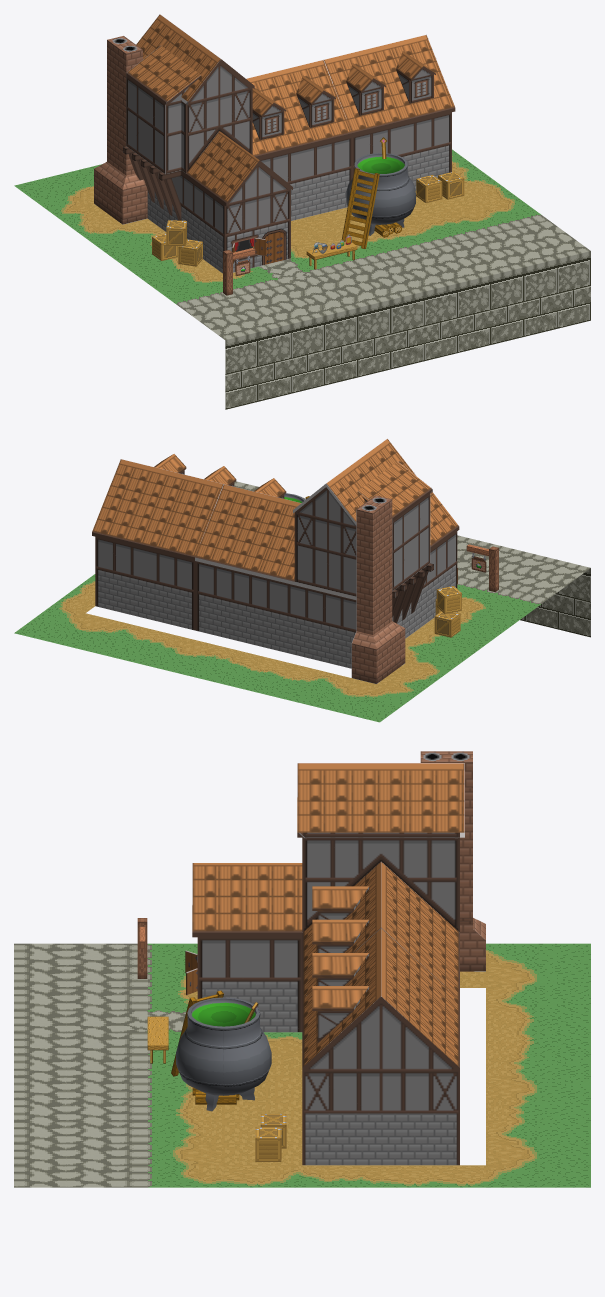
File: Alchemy_Shop_1.fbx
3 renders of one model, top to bottom at view 1: azimuth 30°, elevation 25°; view 2: azimuth 150°, elevation 25°; view 3: azimuth 270°, elevation 25°, orthographic. The views are drawn at different scales.
Parts seen in each view (by area): view 1: Alchemy_Shop_1_Building, Alchemy_Shop_1_Building_Chimney, Cauldron_1, Terrain_Cube_Set_L_Front.004, Terrain_Cube_Set_L_Front.001, Terrain_Cube_Set_L_Front.008, Terrain_Cube_Set_L_Front, Terrain_Cube_Set_L_Front.003, Terrain_Cube_Set_L_Front.009, Terrain_Cube_Set_L_Front.010, Terrain_Cube_Set_L_Front.005, Terrain_Cube_Set_L_Front.006 (+61 smaller); view 2: Alchemy_Shop_1_Building, Alchemy_Shop_1_Building_Chimney, Terrain_Cube_Set_L_Front.003, Terrain_Cube_Side, Sign_Post_Alchemy_1, Terrain_Cube_Side.001, Terrain_Cube_Set_L_Front.002, Terrain_Cube_Top.010, Terrain_Cube_Top.011, Terrain_Cube_Top.020, Terrain_Cube_Top.030, Terrain_Cube_Top.044 (+35 smaller); view 3: Alchemy_Shop_1_Building, Cauldron_1, Alchemy_Shop_1_Building_Chimney, Alchemy_Shop_1_Building_Extension_Roof_Window.003, Alchemy_Shop_1_Building_Extension_Roof_Window.001, Alchemy_Shop_1_Building_Extension_Roof_Window, Alchemy_Shop_1_Building_Extension_Roof_Window.002, Terrain_Cube_Top.023, Terrain_Cube_Top.025, Terrain_Cube_Top.009, Terrain_Cube_Top.015, Terrain_Cube_Top.016 (+64 smaller).
Part boxes in pixels (x1,y1,x2,y2): Alchemy_Shop_1_Building: [123, 14, 455, 273]; Alchemy_Shop_1_Building_Chimney: [94, 36, 147, 224]; Cauldron_1: [346, 153, 415, 235]; Terrain_Cube_Set_L_Front.004: [339, 285, 391, 342]; Terrain_Cube_Set_L_Front.001: [273, 302, 324, 358]; Terrain_Cube_Set_L_Front.008: [472, 253, 524, 309]; Terrain_Cube_Set_L_Front: [306, 294, 358, 350]; Terrain_Cube_Set_L_Front.003: [206, 318, 258, 374]; Terrain_Cube_Set_L_Front.009: [505, 245, 557, 301]; Terrain_Cube_Set_L_Front.010: [539, 237, 590, 293]; Terrain_Cube_Set_L_Front.005: [373, 277, 424, 334]; Terrain_Cube_Set_L_Front.006: [406, 269, 457, 326]; Alchemy_Shop_1_Building: [92, 438, 459, 668]; Alchemy_Shop_1_Building_Chimney: [351, 495, 405, 683]; Terrain_Cube_Set_L_Front.003: [539, 560, 590, 602]; Terrain_Cube_Side: [557, 594, 590, 637]; Sign_Post_Alchemy_1: [466, 544, 498, 592]; Terrain_Cube_Side.001: [524, 594, 557, 629]; Terrain_Cube_Set_L_Front.002: [505, 551, 557, 594]; Terrain_Cube_Top.010: [333, 678, 384, 700]; Terrain_Cube_Top.011: [423, 644, 475, 666]; Terrain_Cube_Top.020: [33, 605, 85, 627]; Terrain_Cube_Top.030: [47, 627, 99, 649]; Terrain_Cube_Top.044: [313, 692, 365, 714]; Alchemy_Shop_1_Building: [192, 763, 464, 1165]; Cauldron_1: [176, 997, 271, 1111]; Alchemy_Shop_1_Building_Chimney: [420, 751, 485, 971]; Alchemy_Shop_1_Building_Extension_Roof_Window.003: [312, 986, 369, 1042]; Alchemy_Shop_1_Building_Extension_Roof_Window.001: [312, 919, 369, 952]; Alchemy_Shop_1_Building_Extension_Roof_Window: [312, 886, 369, 919]; Alchemy_Shop_1_Building_Extension_Roof_Window.002: [312, 953, 369, 985]; Terrain_Cube_Top.023: [328, 1165, 381, 1187]; Terrain_Cube_Top.025: [223, 1165, 276, 1187]; Terrain_Cube_Top.009: [486, 943, 538, 965]; Terrain_Cube_Top.015: [486, 988, 538, 1010]; Terrain_Cube_Top.016: [486, 1010, 538, 1032].
Bounding box in the file's own units: 2200 × 1440 × 2200.
